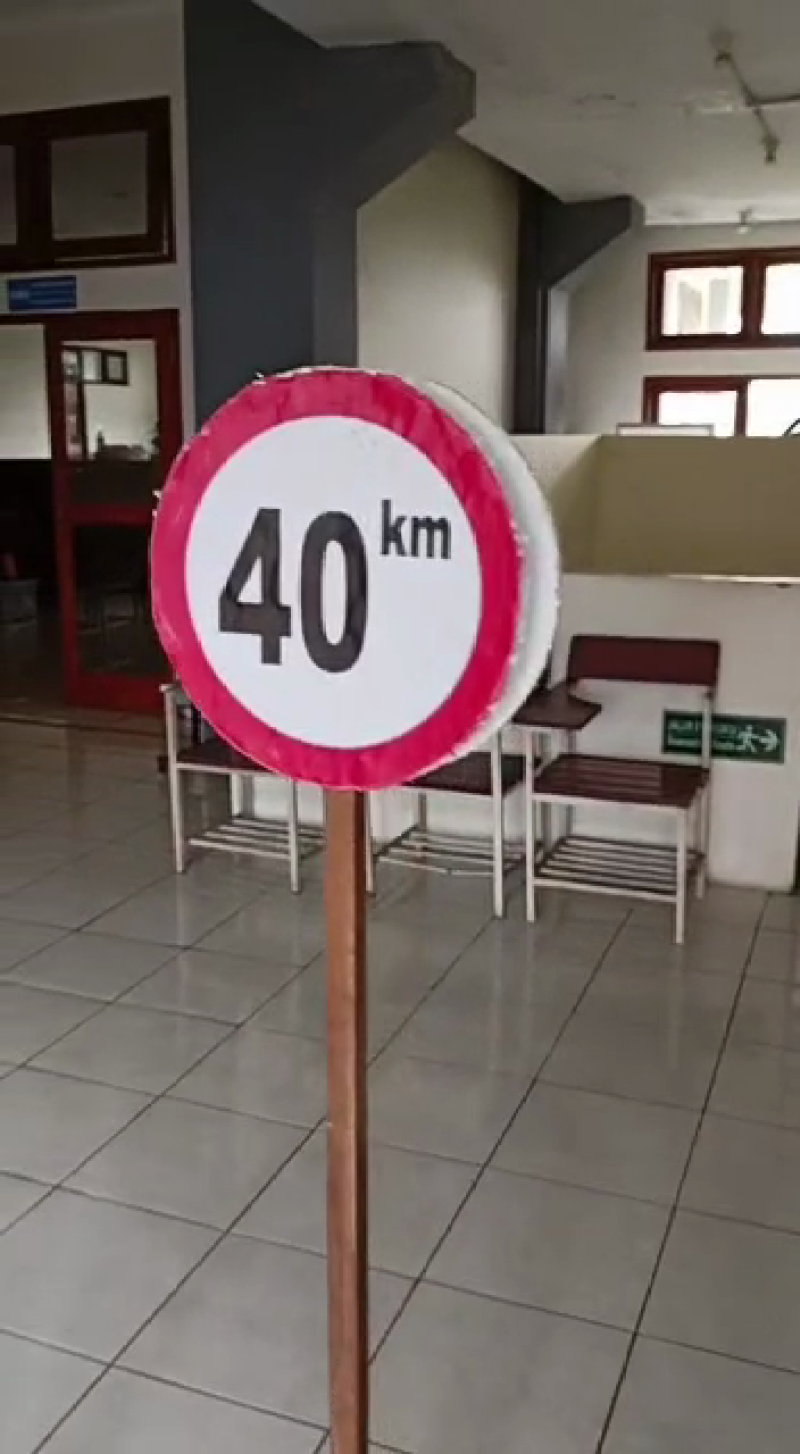batas maksimal 40kmperjam: (124, 348, 536, 799)
